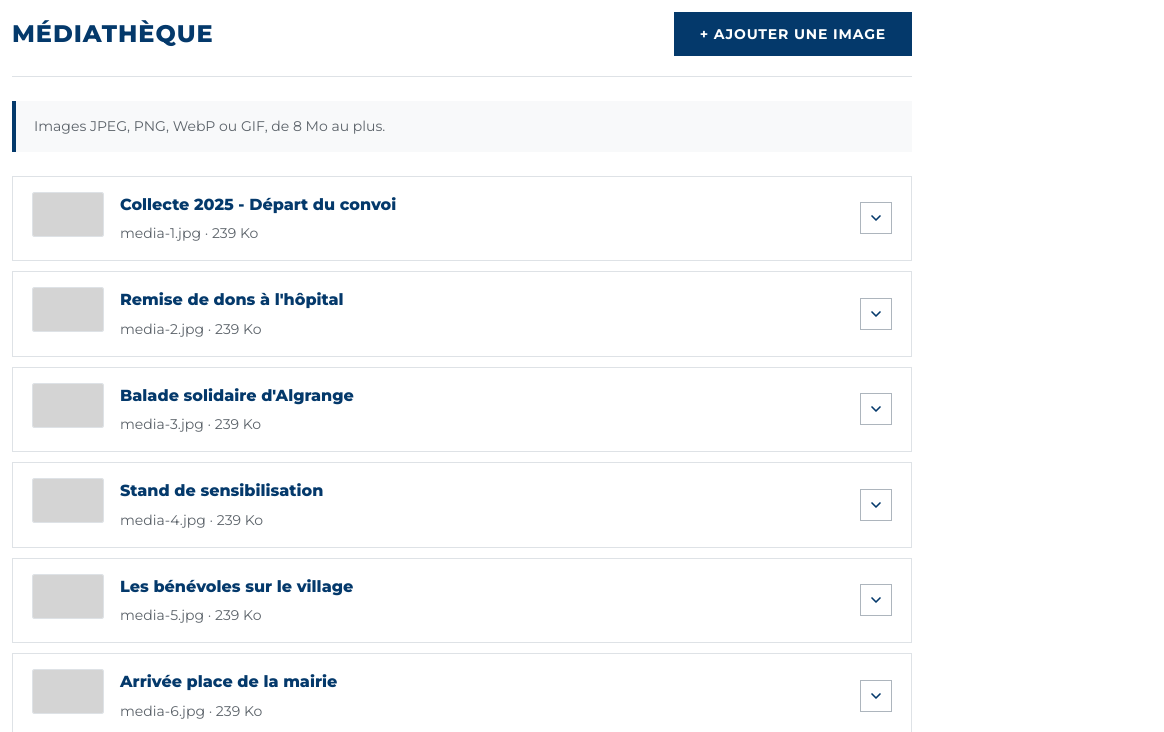
Test: MediasAdminPage › describes an image again
The width and height of the screenshot is (1164, 732).
Click the button "Collecte 2025 - Départ du convoi media-1.jpg · 239 Ko": point(68, 214) [32,192,844,245]
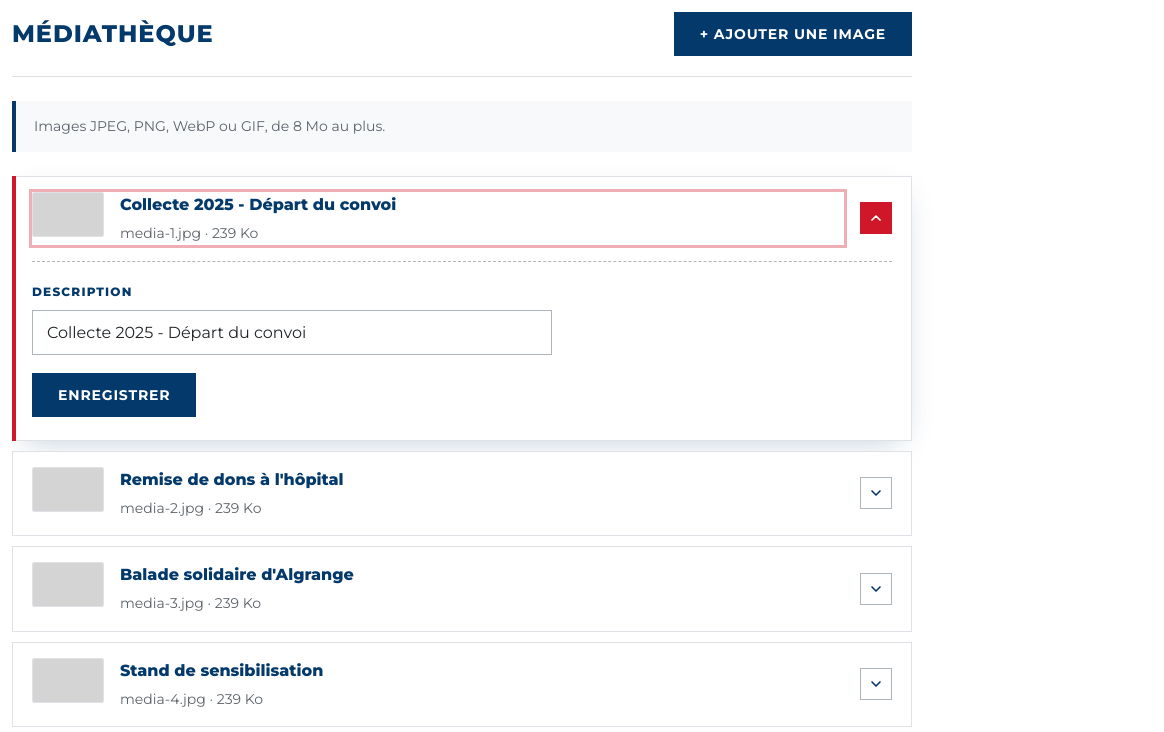
Replace the text in the field labelled "Description" with "Le convoi au départ": point(292, 332) [32,310,552,355]
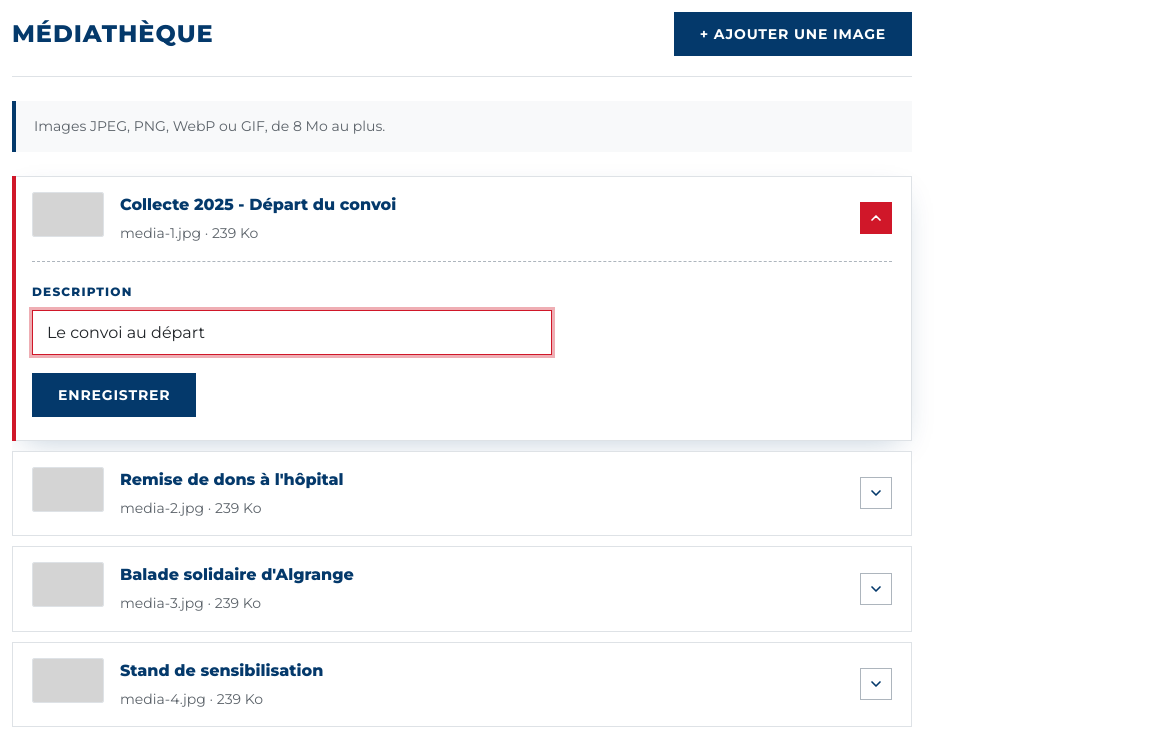
Click the button "Enregistrer": point(114, 395) [32,373,196,417]
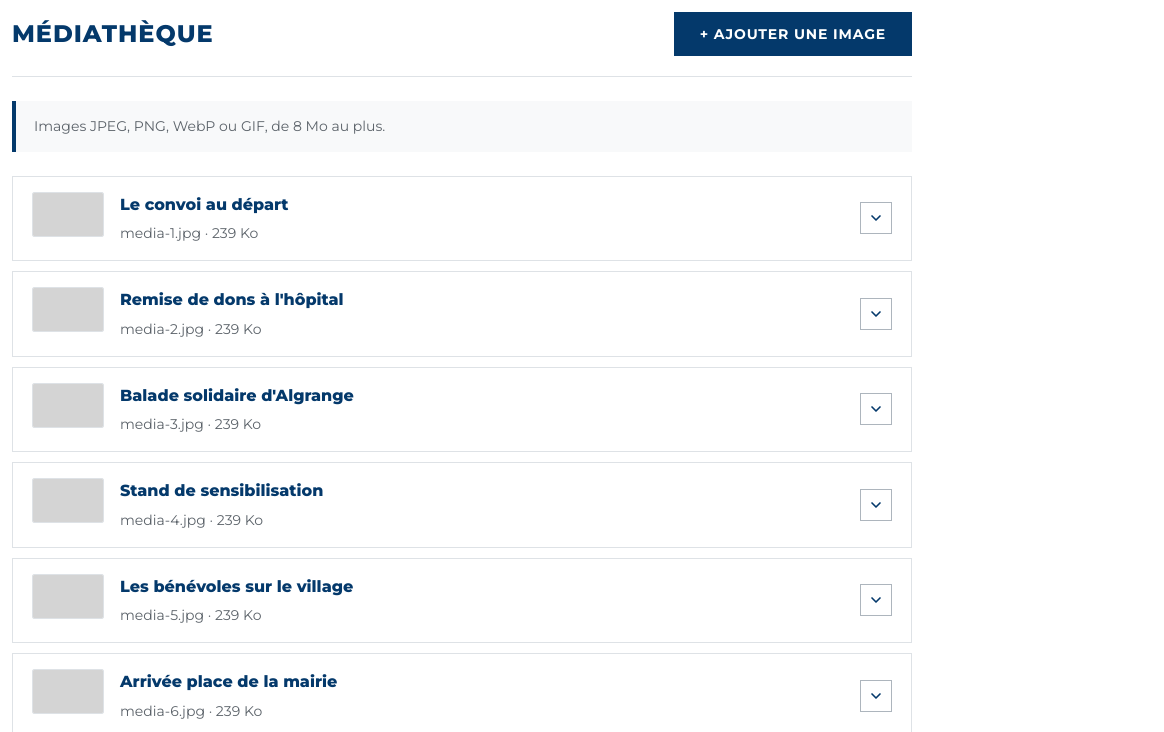
Expected: the button "Le convoi au départ media-1.jpg · 239 Ko" is shown, [32,192,844,245]
